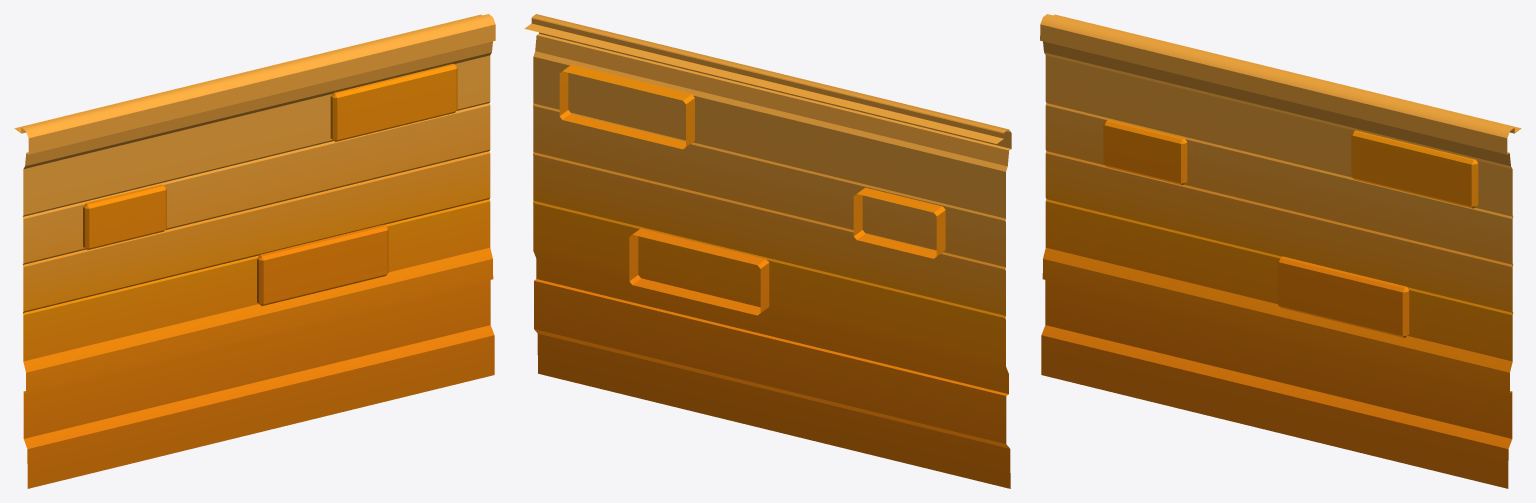
File: Wall_01.fbx
3 views of the same model, side by side, from view 1: azimuth 30°, elevation 25°; view 2: azimuth 150°, elevation 25°; view 3: azimuth 330°, elevation 25° (orthographic).
Visible parts, largest first — view 1: Wall_01; view 2: Wall_01; view 3: Wall_01.
Part boxes in pixels (x1=…): Wall_01: x1=14, y1=14, x2=495, y2=488; Wall_01: x1=524, y1=14, x2=1011, y2=488; Wall_01: x1=1040, y1=14, x2=1521, y2=488.
Size of the model in its own units: 400 by 292 by 21.71.
